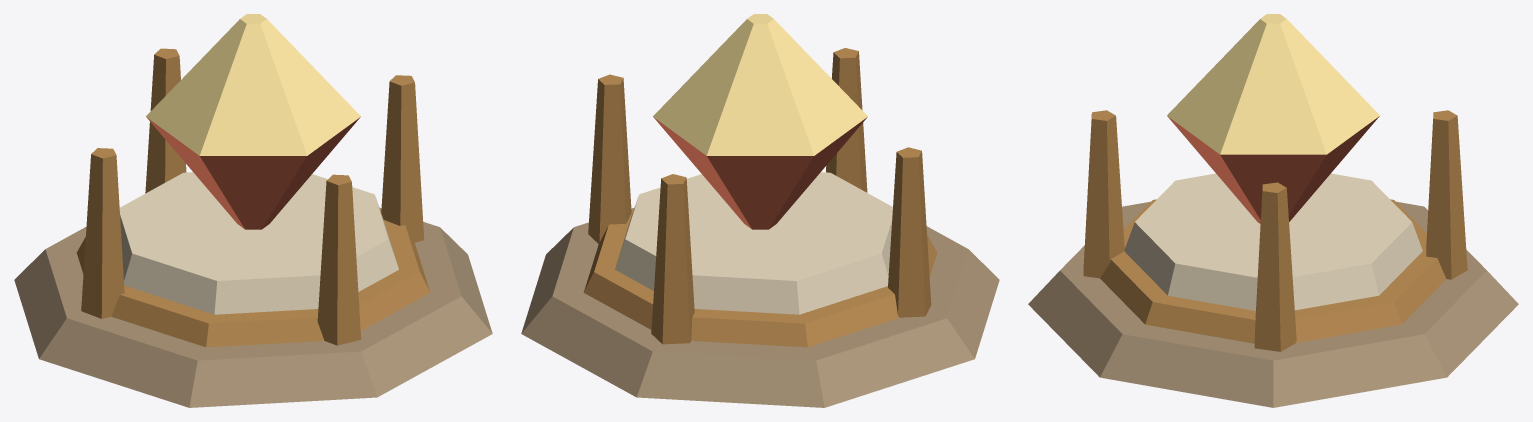
File: Environment_SealHeart.fbx
3 renders of one model, left to right at view 1: azimuth 30°, elevation 25°; view 2: azimuth 150°, elevation 25°; view 3: azimuth 270°, elevation 25°, orthographic.
Parts seen in each view (by area): view 1: Environment_SealHeart; view 2: Environment_SealHeart; view 3: Environment_SealHeart.
Boxes of the visible parts, box(x1,y1,x2,y2) form: Environment_SealHeart: box(14, 14, 492, 407); Environment_SealHeart: box(521, 14, 999, 407); Environment_SealHeart: box(1028, 14, 1518, 407).
Size of the model in its own units: 0.92 by 0.59 by 0.92.
